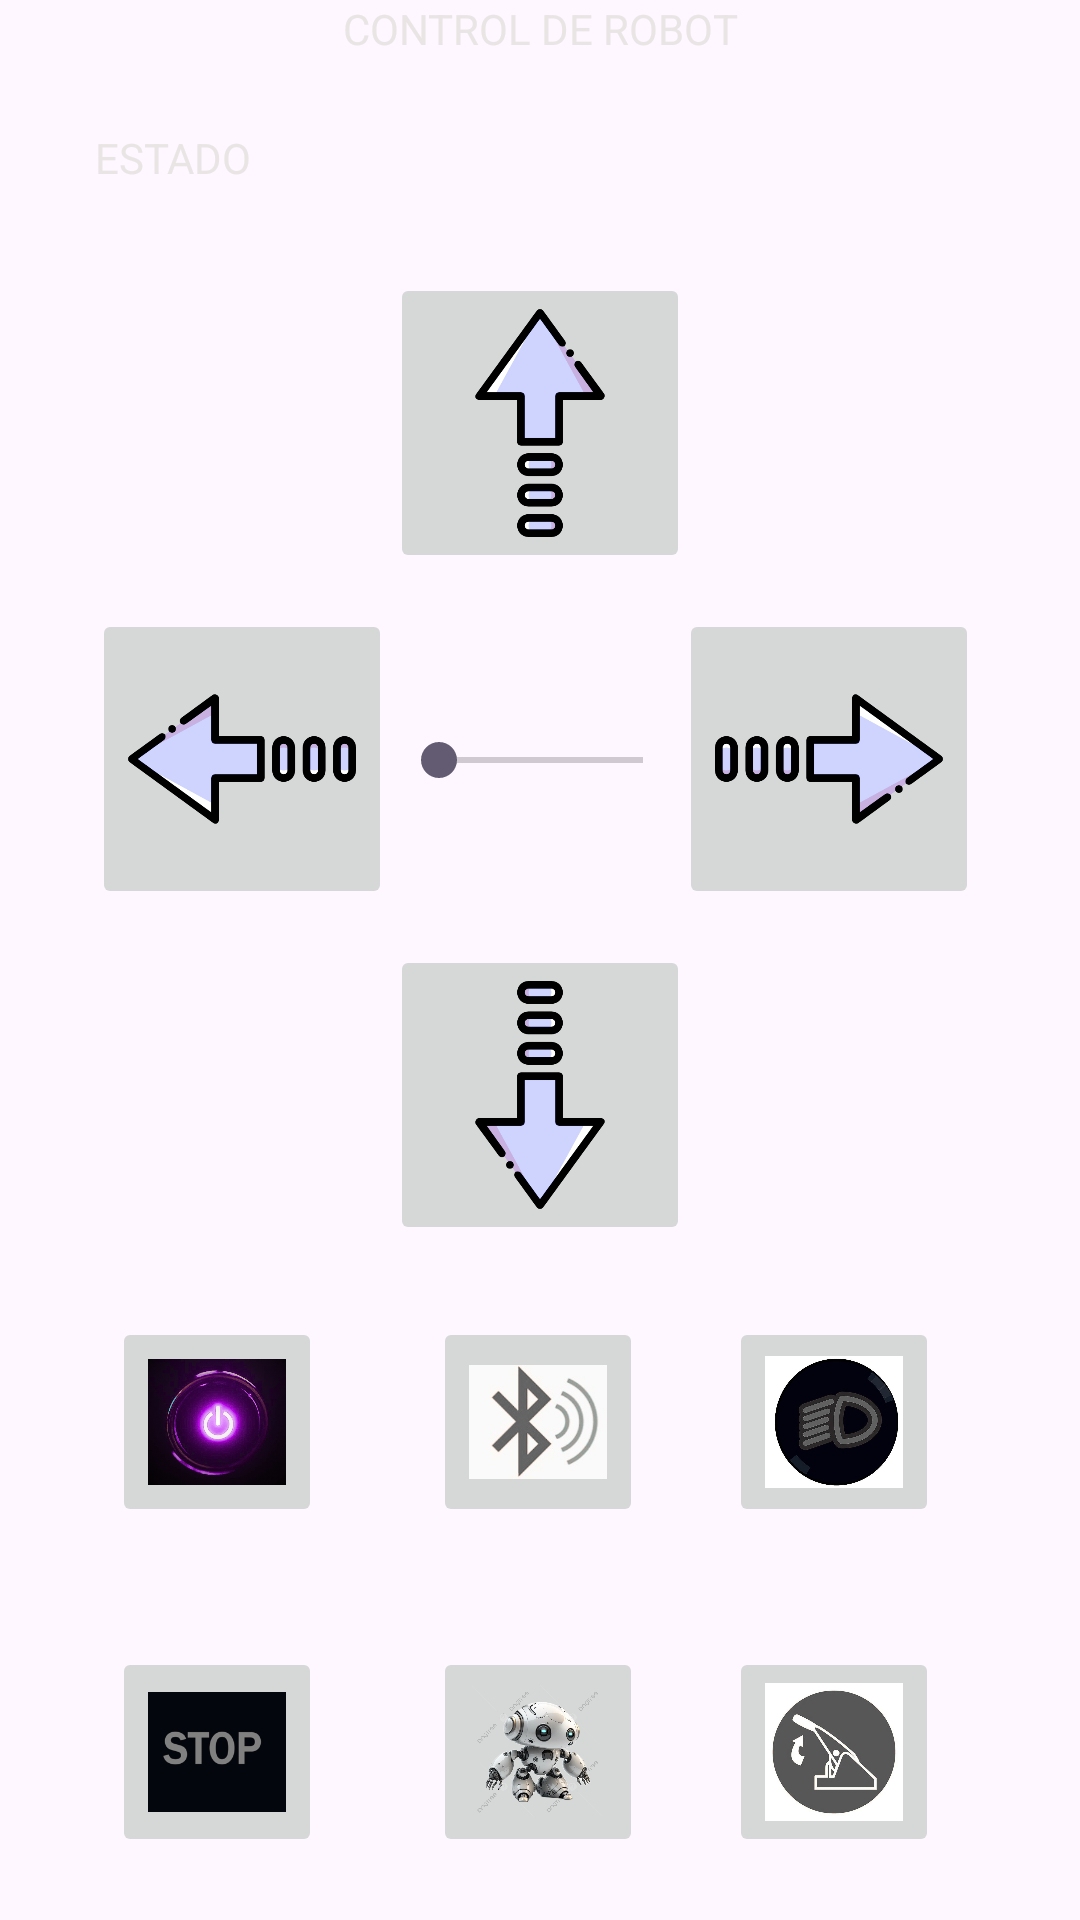

Screen size 1080*1920. Icon name, then its center in pixels as point (x, y):
direccionabajooff: point (540, 1095)
direccionarribaoff: point (540, 423)
frenooff: point (834, 1752)
imagenrobot: point (538, 1752)
luces: point (834, 1422)
